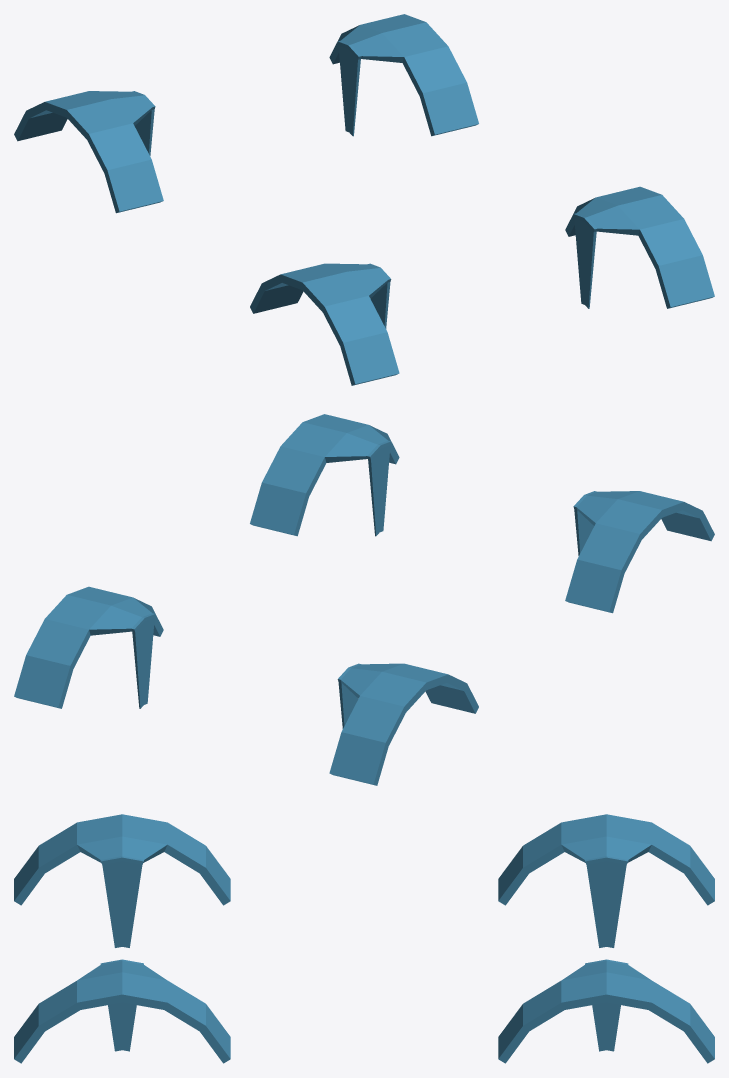
The model's file is wheelGuards1.glb.
The picture shows the model from 3 angles, top to bottom: view 1: azimuth 30°, elevation 25°; view 2: azimuth 150°, elevation 25°; view 3: azimuth 270°, elevation 25°; orthographic projection. The views are drawn at different scales.
Visible parts, largest first — view 1: wheelGuards1; view 2: wheelGuards1; view 3: wheelGuards1.
Boxes of the visible parts, x1,y1,x2,y2 form: wheelGuards1: (14,14,714,385); wheelGuards1: (14,414,714,785); wheelGuards1: (14,814,714,1063).
Bounding box in the file's own units: 3.77 × 0.9291 × 6.2.
1 material, 1 textured.
